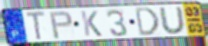3: (106, 8, 129, 38)
D: (134, 6, 160, 38)
K: (80, 10, 104, 38)
P: (48, 10, 74, 40)
T: (25, 10, 47, 41)
U: (158, 5, 188, 35)
